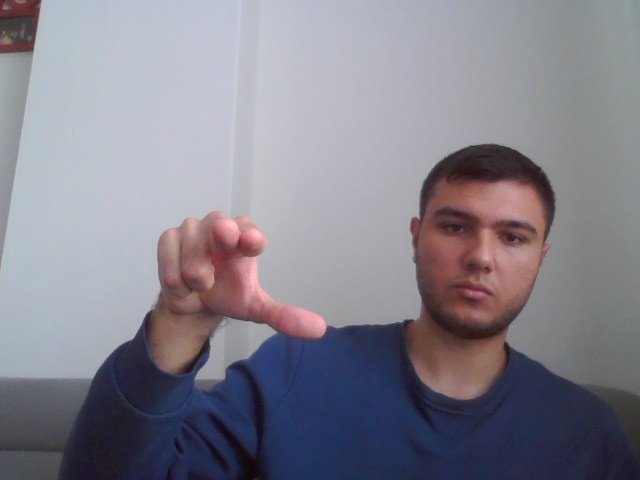no: (153, 211, 328, 345)
